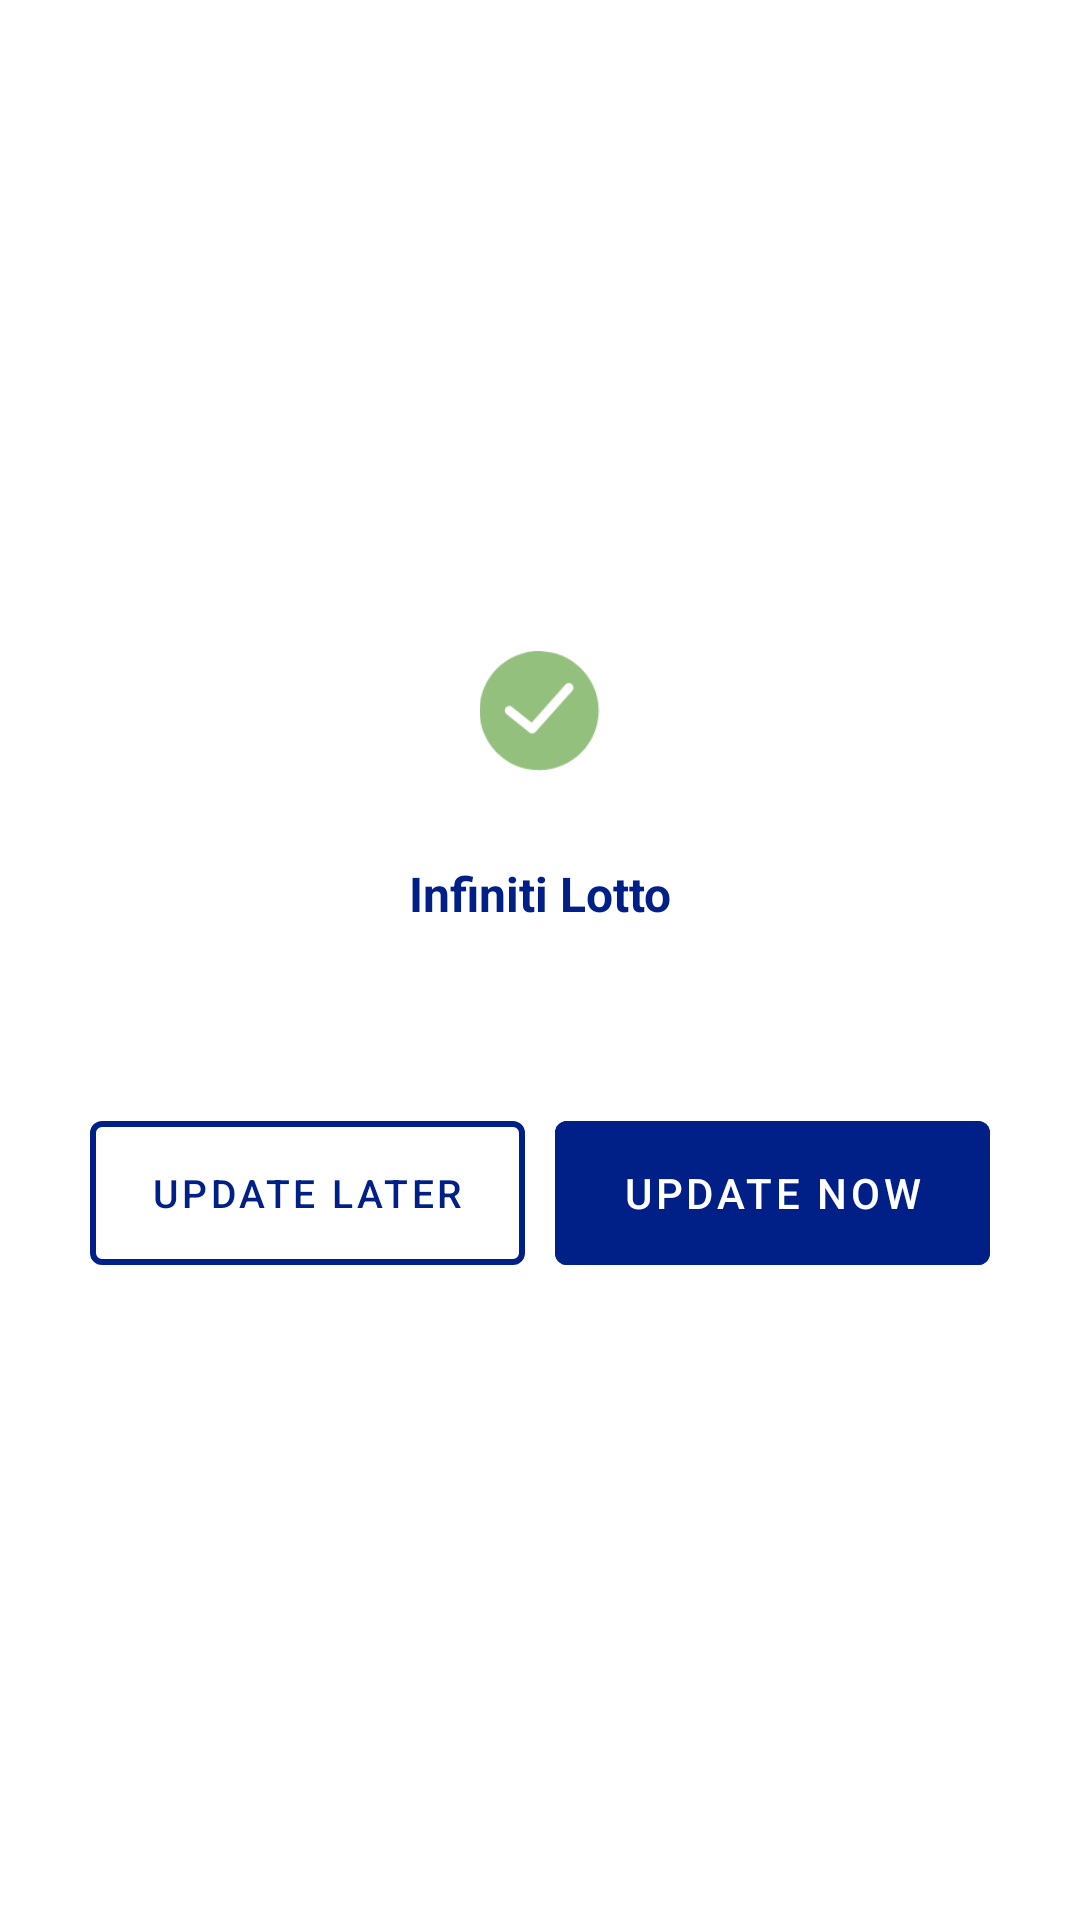

Named icons in this screenshot (1080px×1920px) and their bounding boxes, (left=x1, top=y1, right=x2, bottom=y2):
success: (left=480, top=651, right=600, bottom=771)
